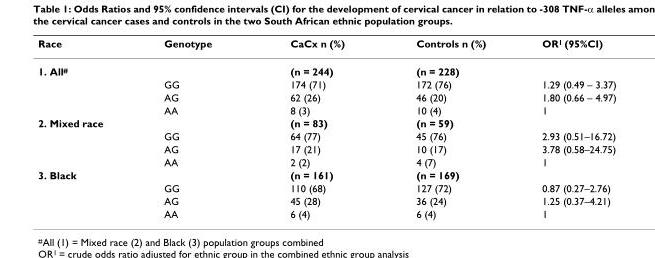table: (37, 36, 615, 219)
table column: (379, 36, 513, 219), (250, 36, 379, 219), (132, 36, 250, 219), (513, 36, 615, 219), (37, 36, 132, 219)
table column header: (37, 36, 615, 56)
table row: (37, 56, 615, 77), (37, 36, 615, 56), (37, 77, 615, 90), (37, 90, 615, 103), (37, 103, 615, 116), (37, 116, 615, 129), (37, 129, 615, 142), (37, 142, 615, 155), (37, 155, 615, 168), (37, 168, 615, 181), (37, 181, 615, 194), (37, 206, 615, 219), (37, 194, 615, 206)
table spanning cell: (37, 56, 132, 116), (37, 116, 132, 168), (37, 168, 132, 219)
